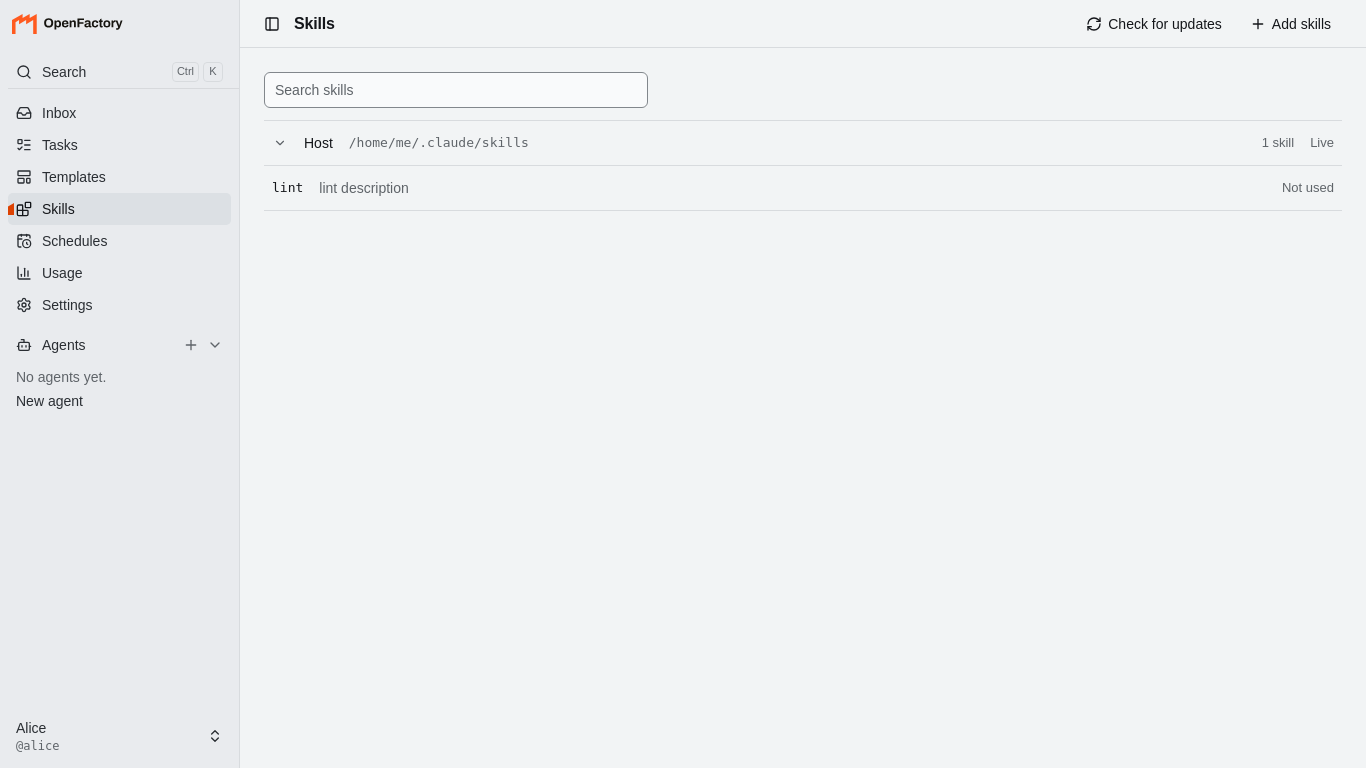
it: Folder mode is a path field with its help; GitHub mode shows the three fields with their help
What coordinates should you click on to do the following:
click the button "Add skills"
I would click on:
 (1291, 24)
Its box is [1241,8,1342,40].
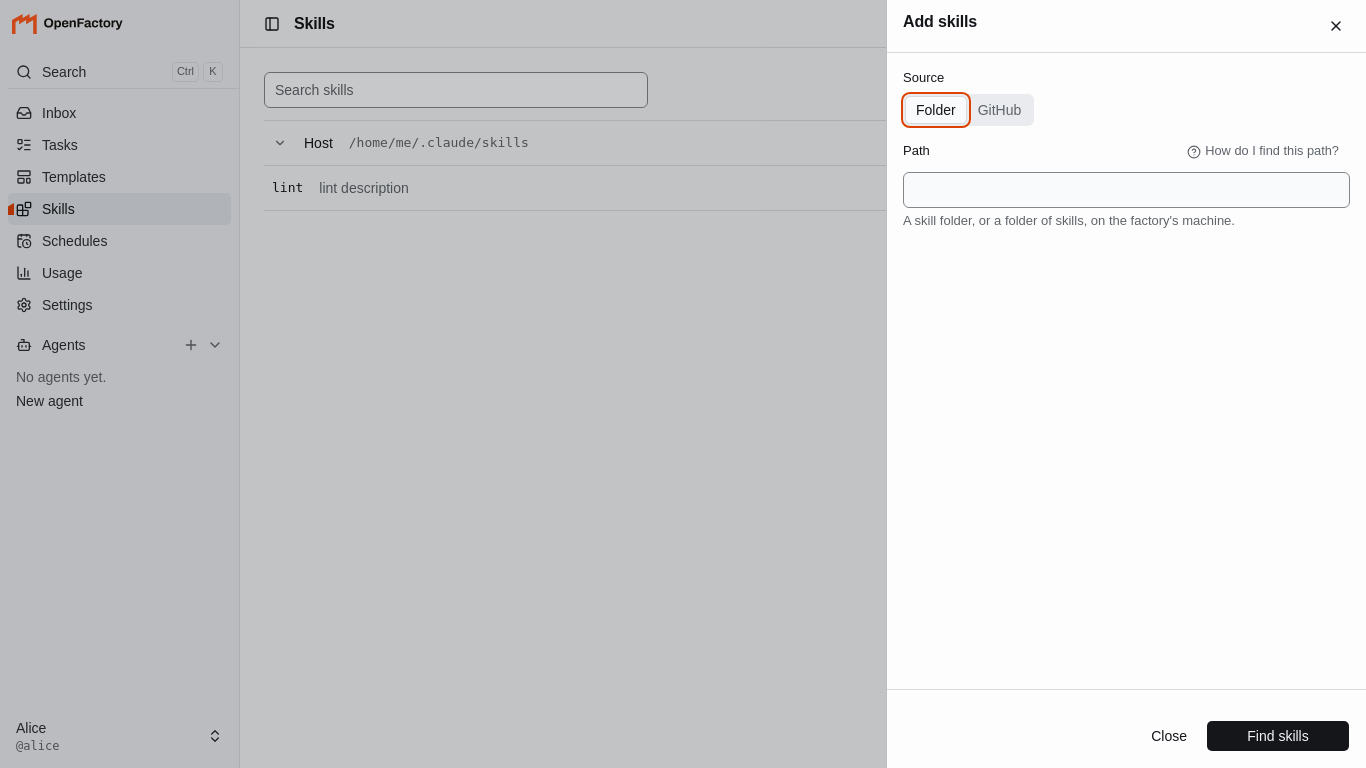
Result: the form named "Add skills" is shown at [887,53,1365,767]
Result: the field labelled "Path" is shown at [903,172,1350,208]
Result: the text "A skill folder, or a folder of skills, on the factory's machine." is shown at [903,213,1235,228]
What coordinates should you click on to do the following:
click the radio button labelled "GitHub"
I would click on:
 (1000, 110)
Its box is [978,102,1021,118].
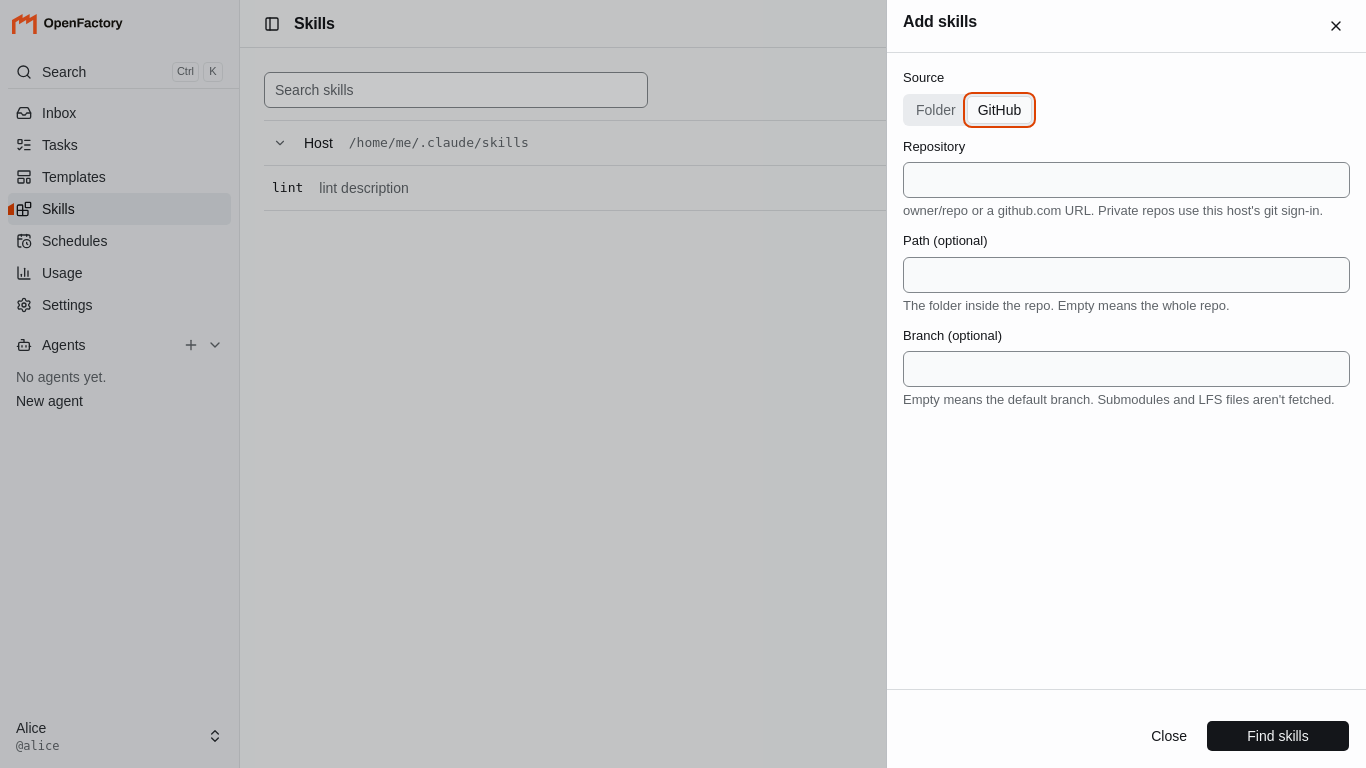
Result: the field labelled "Repository" is shown at [903,162,1350,198]
Result: the field labelled "Path (optional)" is shown at [903,257,1350,293]
Result: the field labelled "Branch (optional)" is shown at [903,351,1350,387]
